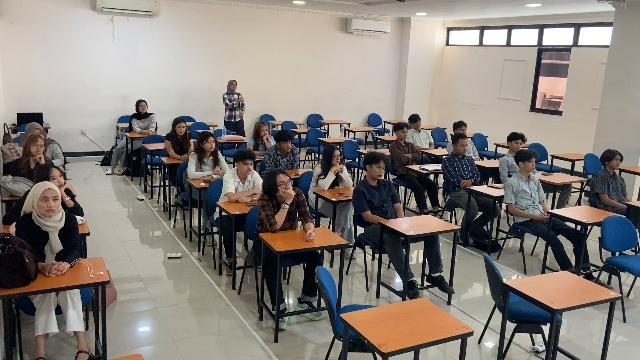fokus: (40, 192, 57, 215), (277, 175, 292, 195), (51, 170, 65, 187), (372, 162, 384, 179), (31, 141, 45, 155), (525, 157, 537, 172), (241, 160, 253, 174), (205, 137, 216, 152), (610, 156, 622, 169), (280, 140, 291, 153), (512, 140, 523, 152), (333, 150, 341, 166), (459, 140, 468, 154), (260, 125, 269, 138), (177, 123, 186, 135), (399, 128, 408, 140), (458, 126, 467, 135), (413, 120, 421, 128)
